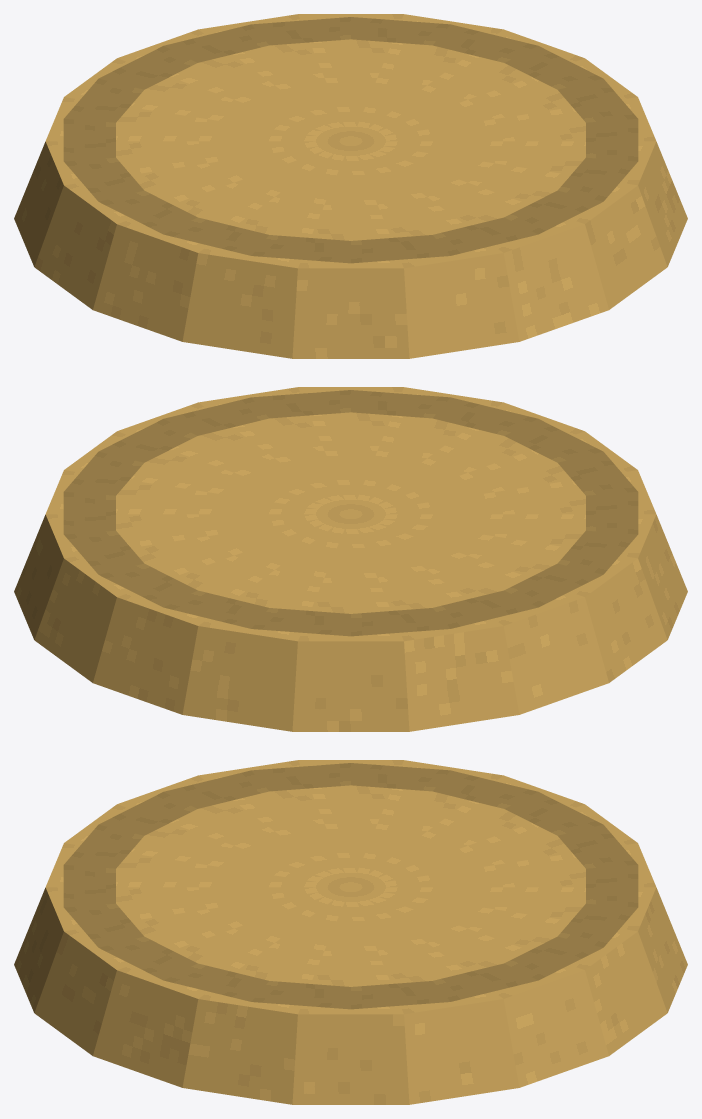
The model's file is frisbee.glb.
3 views of the same model, one above another, from view 1: azimuth 30°, elevation 25°; view 2: azimuth 150°, elevation 25°; view 3: azimuth 270°, elevation 25° (orthographic).
Visible parts, largest first — view 1: block_flying disc, block_ridge 13, block_ridge 16, block_ridge 4, block_ridge 7, block_ridge 3, block_ridge 8, block_ridge 14, block_ridge 15, block_ridge 5, block_ridge 6, block_ridge 1 (+7 smaller); view 2: block_flying disc, block_ridge 1, block_ridge 4, block_ridge 10, block_ridge 13, block_ridge 2, block_ridge 3, block_ridge 9, block_ridge 14, block_ridge 11, block_ridge 12, block_ridge 7 (+7 smaller); view 3: block_flying disc, block_ridge 7, block_ridge 10, block_ridge 1, block_ridge 16, block_ridge 2, block_ridge 8, block_ridge 9, block_ridge 15, block_ridge 0, block_ridge 17, block_ridge 4 (+7 smaller).
Boxes of the visible parts, x1,y1,x2,y2 form: block_flying disc: [14, 14, 687, 358]; block_ridge 13: [164, 24, 268, 62]; block_ridge 16: [433, 24, 537, 62]; block_ridge 4: [433, 217, 537, 255]; block_ridge 7: [164, 217, 268, 255]; block_ridge 3: [504, 190, 602, 234]; block_ridge 8: [99, 190, 197, 234]; block_ridge 14: [251, 17, 350, 45]; block_ridge 15: [351, 17, 450, 45]; block_ridge 5: [351, 235, 450, 263]; block_ridge 6: [251, 235, 350, 263]; block_ridge 1: [586, 119, 638, 161]; block_flying disc: [14, 387, 687, 731]; block_ridge 1: [164, 397, 268, 435]; block_ridge 4: [433, 397, 537, 435]; block_ridge 10: [433, 590, 537, 628]; block_ridge 13: [164, 590, 268, 628]; block_ridge 2: [251, 390, 350, 418]; block_ridge 3: [351, 390, 450, 418]; block_ridge 9: [504, 563, 602, 607]; block_ridge 14: [99, 563, 197, 607]; block_ridge 11: [351, 608, 450, 636]; block_ridge 12: [251, 608, 350, 636]; block_ridge 7: [586, 492, 638, 534]; block_flying disc: [14, 760, 687, 1104]; block_ridge 7: [164, 770, 268, 808]; block_ridge 10: [433, 770, 537, 808]; block_ridge 1: [164, 963, 268, 1001]; block_ridge 16: [433, 963, 537, 1001]; block_ridge 2: [99, 936, 197, 980]; block_ridge 8: [251, 763, 350, 791]; block_ridge 9: [351, 763, 450, 791]; block_ridge 15: [504, 936, 602, 980]; block_ridge 0: [251, 981, 350, 1009]; block_ridge 17: [351, 981, 450, 1009]; block_ridge 4: [63, 865, 115, 907].
Size of the model in its own units: 0.2629 by 0.0343 by 0.267.
1 material, 1 textured.
